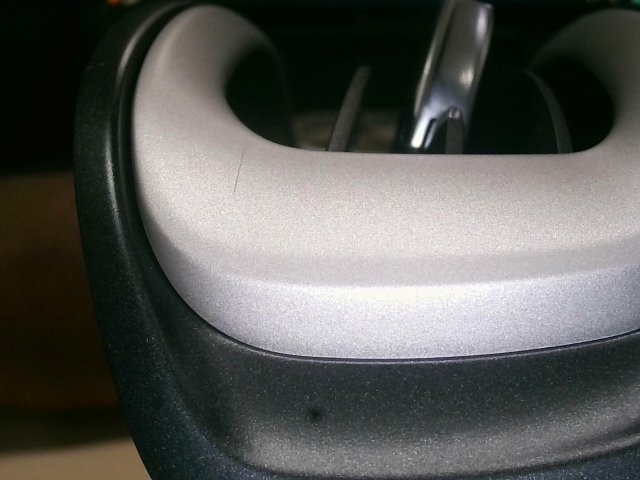NG: (225, 141, 253, 199)
